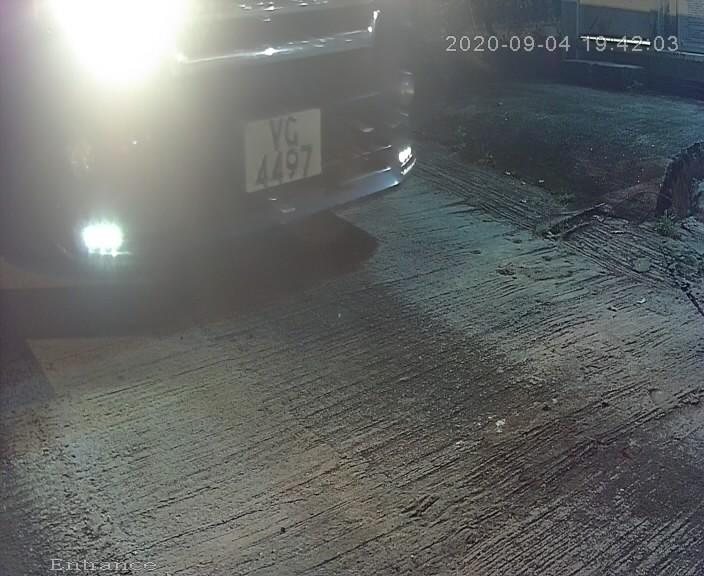License Plate: (230, 91, 334, 206)
